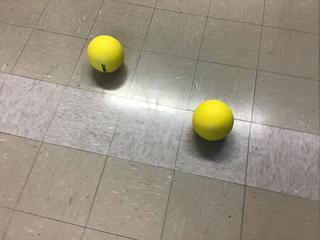power_cell: (191, 99, 238, 142), (84, 34, 128, 76)
